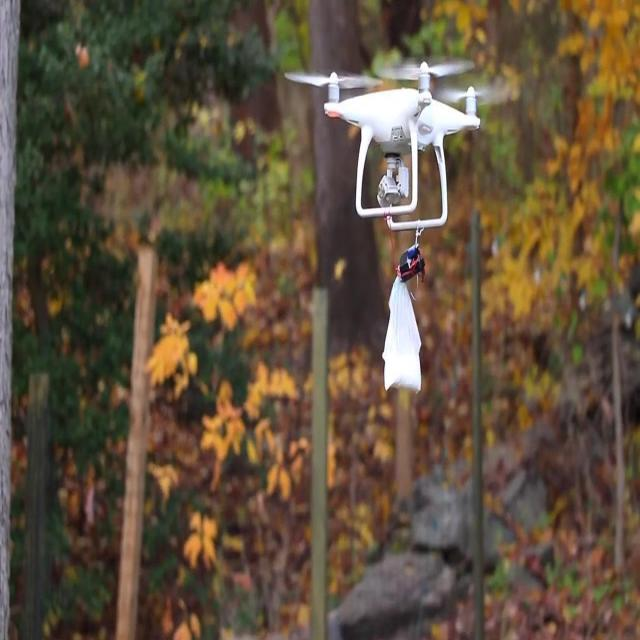drone: (319, 57, 483, 239)
